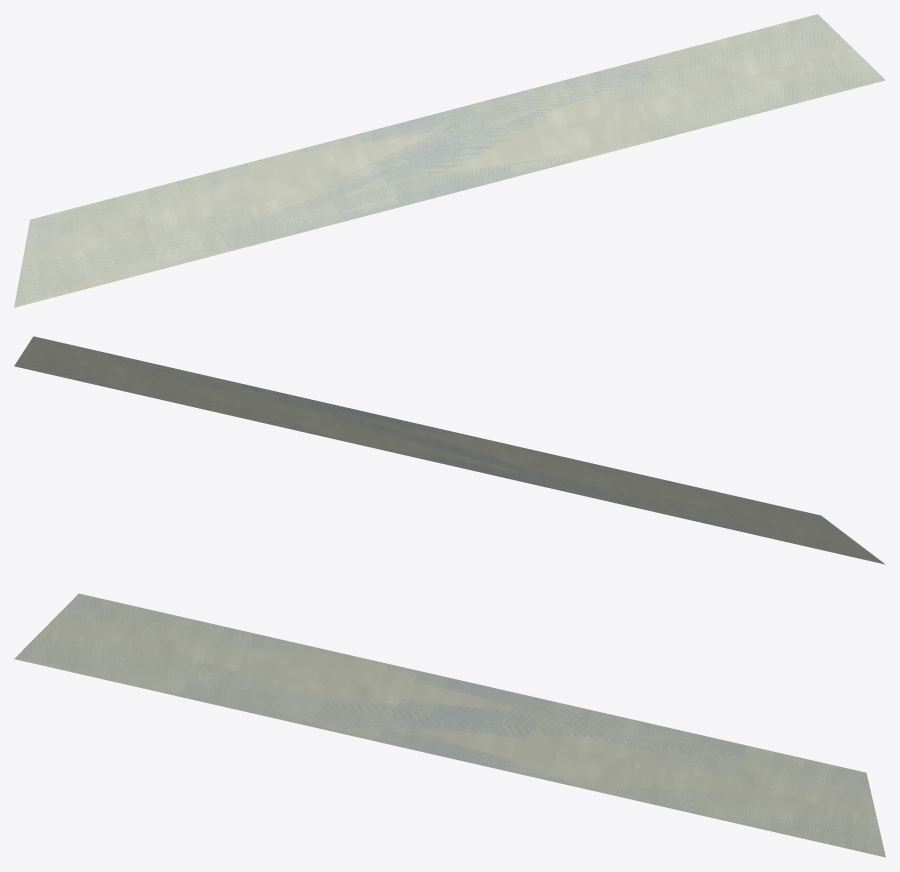
Rendered from 人民英雄纪念碑130.dae.
3 views of the same model, one above another, from view 1: azimuth 30°, elevation 25°; view 2: azimuth 150°, elevation 25°; view 3: azimuth 330°, elevation 25° (orthographic). The views are drawn at different scales.
Visible parts, largest first — view 1: SketchUp; view 2: SketchUp; view 3: SketchUp.
Part boxes in pixels (x1,y1,x2,y2): SketchUp: (14, 14, 885, 307); SketchUp: (14, 336, 885, 564); SketchUp: (14, 593, 885, 857).
Size of the model in its own units: 354 by 27.12 by 22.67.
